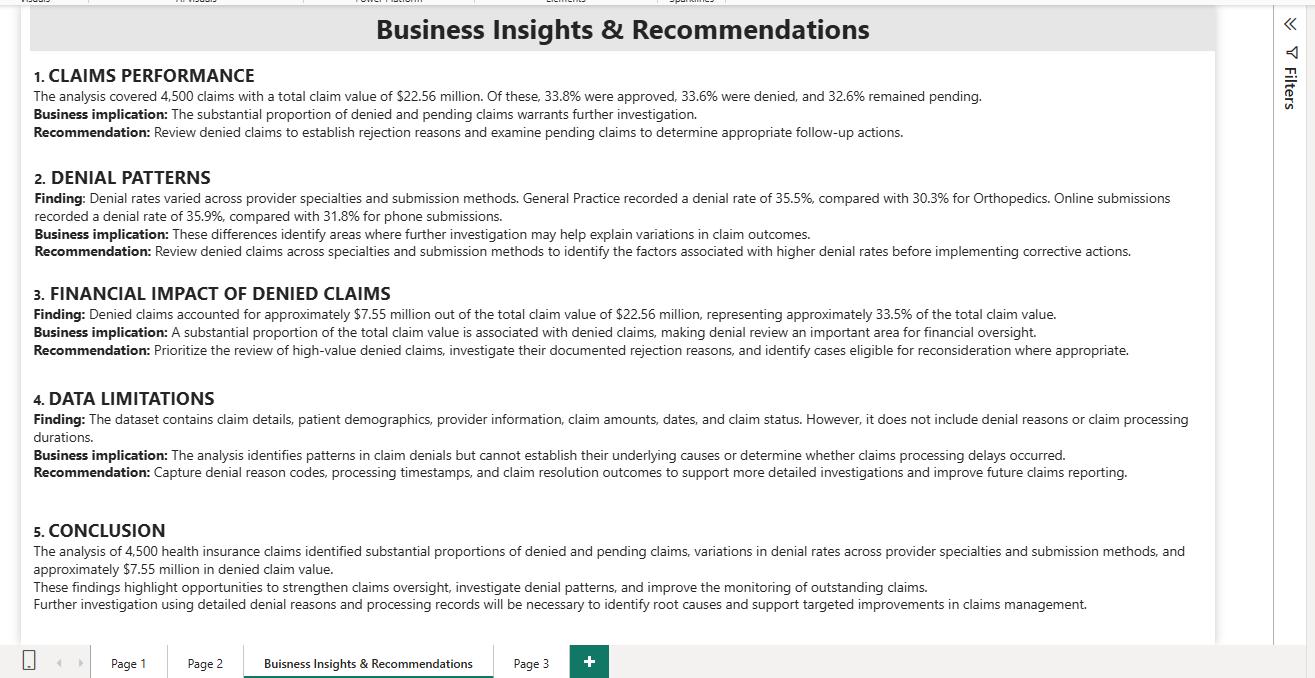

What the dashboard file says about the page in this screenshot:
{"tool":"powerbi","page":{"name":"Buisness Insights & Recommendations","canvas":[1400,750],"ordinal":2},"visuals":[{"type":"textbox","box":[10.8,0,1389.2,54.1],"z":0},{"type":"textbox","box":[10,167,900,150],"z":1000},{"type":"textbox","box":[9.6,62.5,1390.4,104.6],"z":2000},{"type":"textbox","box":[10.8,181.6,1389.2,135.9],"z":3000},{"type":"textbox","box":[9.6,317.5,1390.4,122.7],"z":5000},{"type":"textbox","box":[9.6,440.2,1390.4,134.7],"z":6000},{"type":"textbox","box":[9.6,595.4,1390.4,155.2],"z":7000}]}

Visuals, with their boxes on the page's 1400x750 design canvas (x1, y1, x2, y2). These are canvas units, not pixel positions in the 1315x678 screenshot, which may show the page scaled, cropped or inside an application window:
textbox: <region>11, 0, 1400, 54</region>
textbox: <region>10, 167, 910, 317</region>
textbox: <region>10, 62, 1400, 167</region>
textbox: <region>11, 182, 1400, 318</region>
textbox: <region>10, 318, 1400, 440</region>
textbox: <region>10, 440, 1400, 575</region>
textbox: <region>10, 595, 1400, 751</region>
